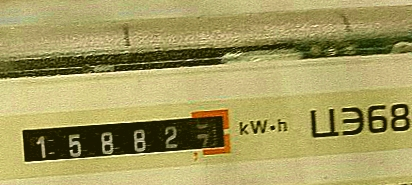1: (36, 130, 50, 159)
2: (162, 122, 181, 149)
5: (67, 129, 86, 160)
7: (196, 130, 210, 147)
8: (131, 124, 149, 153), (99, 127, 116, 156)
screen: (10, 99, 240, 174)
